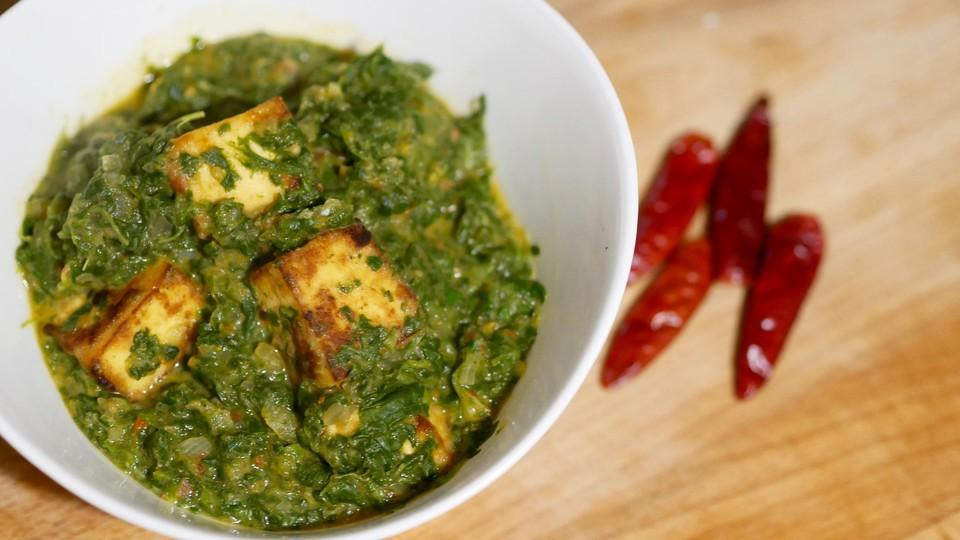PalakPaneer: (19, 36, 545, 533)
